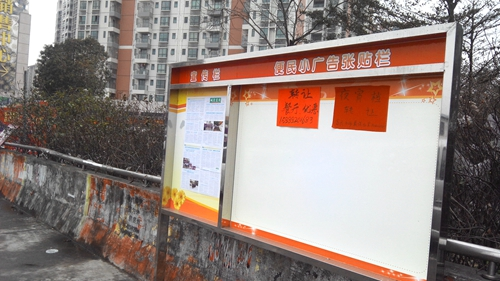bill: (182, 96, 226, 200), (331, 85, 389, 134), (277, 84, 321, 131)
